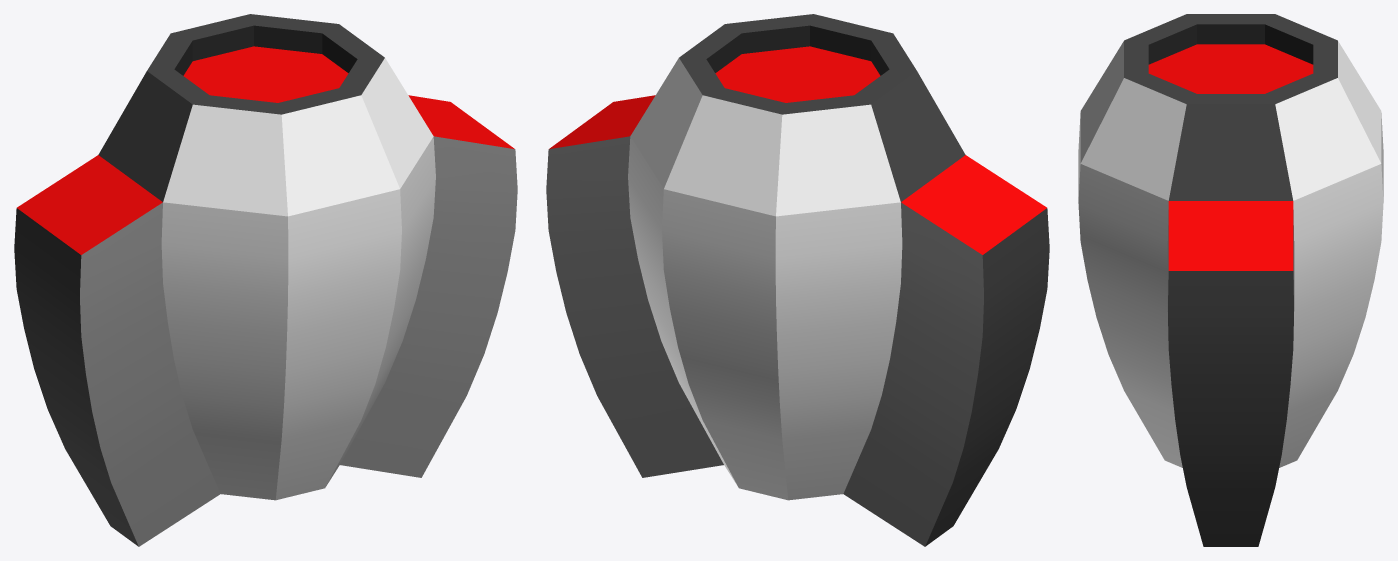
The model's file is orbitalEngineer.obj.
The picture shows the model from 3 angles, left to right: view 1: azimuth 30°, elevation 25°; view 2: azimuth 150°, elevation 25°; view 3: azimuth 270°, elevation 25°; orthographic projection. The views are drawn at different scales.
Visible parts, largest first — view 1: Cylinder050; view 2: Cylinder050; view 3: Cylinder050.
Boxes of the visible parts, <box> form: Cylinder050: <box>14,14,517,546</box>; Cylinder050: <box>546,14,1049,546</box>; Cylinder050: <box>1078,14,1383,546</box>.
Size of the model in its own units: 2.1 by 2.01 by 1.32.
